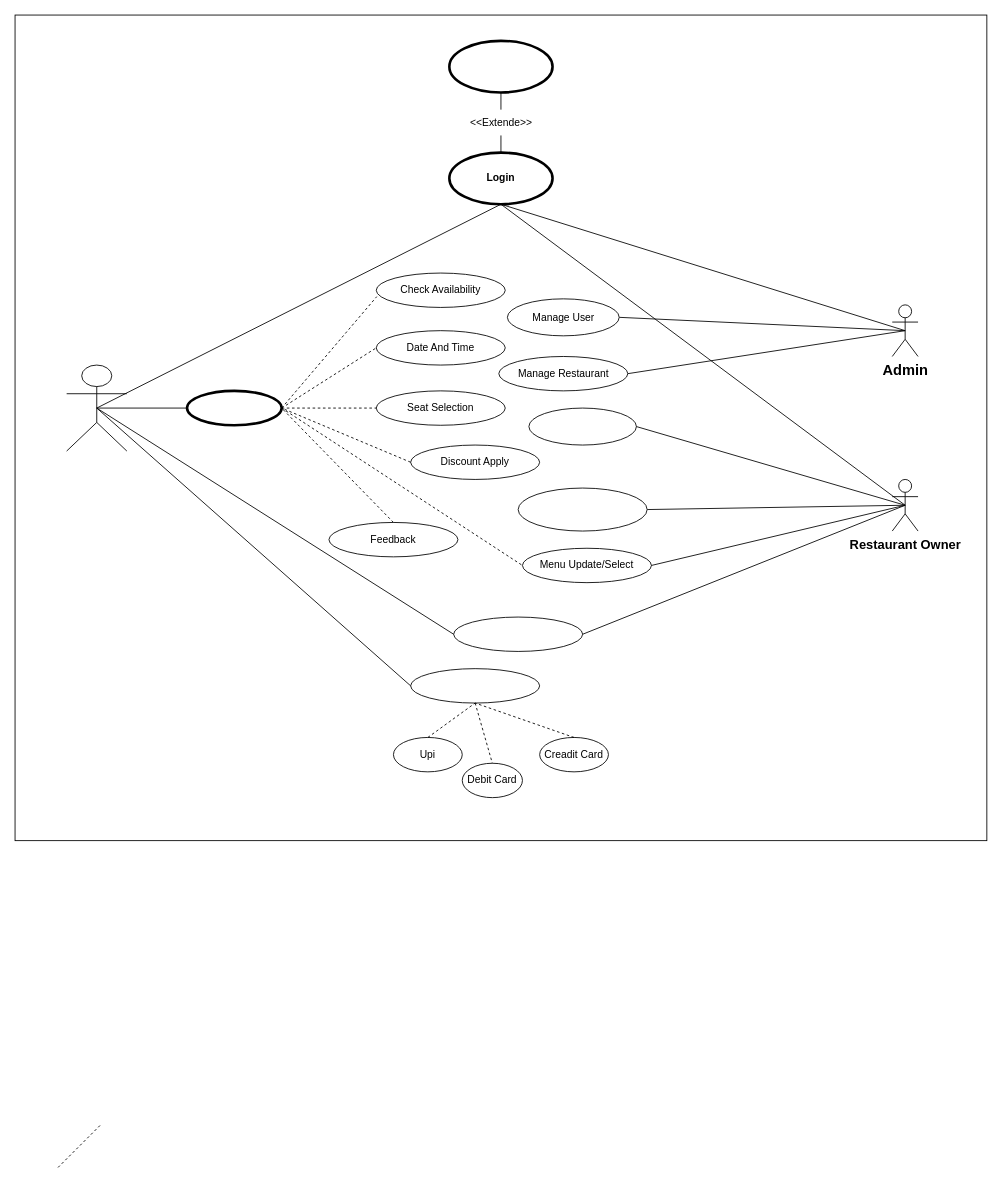
This 1002x1183 diagram has some shape labels left out. Each missing label, with the centre of its shape:
"Cancel Reservation" belongs at (x=518, y=633).
"Payment" belongs at (x=475, y=685).
"Registration" belongs at (x=500, y=66).
"Restaurant Profile" belongs at (x=582, y=426).
"Restaurant Selection" belongs at (x=234, y=407).
"Update Seat Availability" belongs at (x=582, y=509).
"User" belongs at (x=96, y=407).
